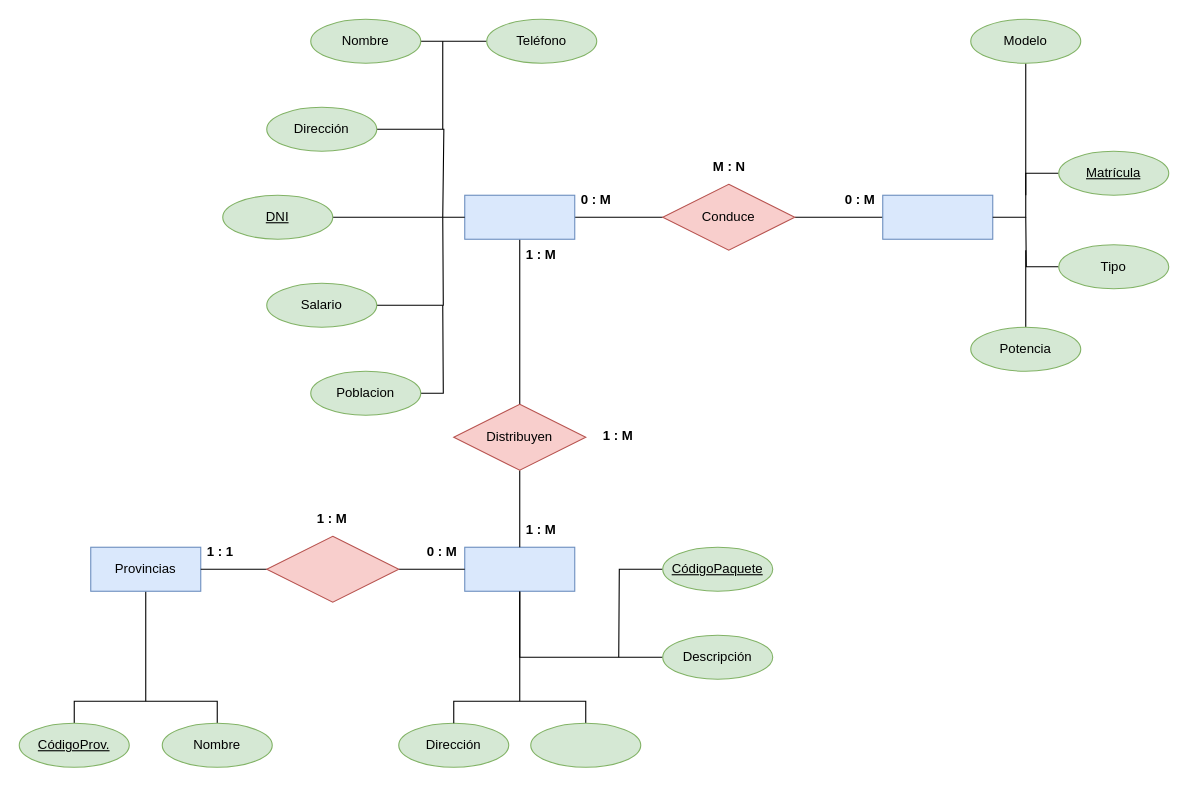
The diagram is 1188 pixels wide and 787 high, and some of its shapes have lost their labels. The shapes that lost their labels are listed below. From the top down, each one's centre as x and y in pixels, then its label:
At (519,216): "Camioneros".
At (937,216): "Camiones".
At (332,568): "Destinado".
At (519,568): "Paquetes".
At (585,744): "Destinatario".
